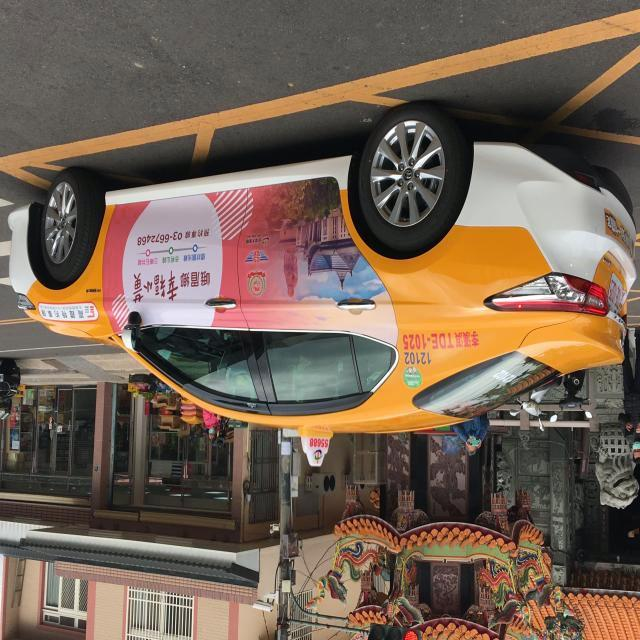taxi: (1, 92, 640, 480)
